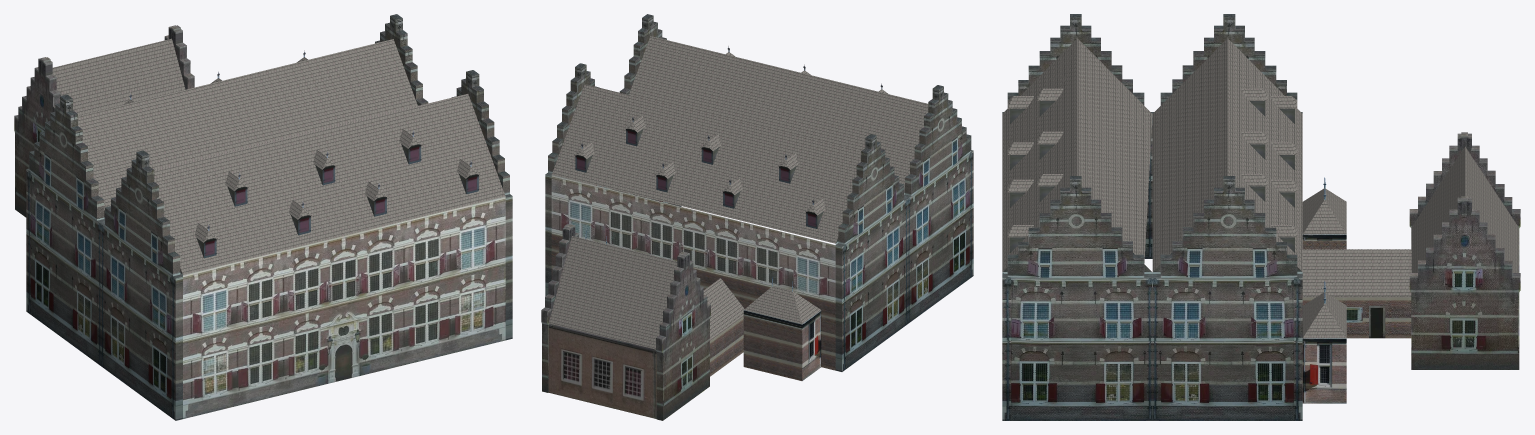
Rendered from euroB_04.glb.
3 renders of one model, left to right at view 1: azimuth 30°, elevation 25°; view 2: azimuth 150°, elevation 25°; view 3: azimuth 270°, elevation 25°, orthographic. The views are drawn at different scales.
Visible parts, largest first — view 1: geometry_11, geometry_0, geometry_1, geometry_76, geometry_9, geometry_12; view 2: geometry_11, geometry_1, geometry_0, geometry_76, geometry_213, geometry_78, geometry_89, geometry_9; view 3: geometry_1, geometry_11, geometry_76, geometry_89, geometry_78, geometry_12, geometry_81.
Part boxes in pixels (<box>): geometry_11: <box>52,38,505,274</box>; geometry_0: <box>98,194,505,418</box>; geometry_1: <box>26,14,512,420</box>; geometry_76: <box>14,25,194,217</box>; geometry_9: <box>129,50,478,258</box>; geometry_12: <box>196,144,466,257</box>; geometry_11: <box>549,36,928,349</box>; geometry_1: <box>545,14,973,371</box>; geometry_0: <box>551,173,909,303</box>; geometry_76: <box>541,224,710,420</box>; geometry_213: <box>548,323,656,418</box>; geometry_78: <box>551,234,835,380</box>; geometry_89: <box>585,231,821,380</box>; geometry_9: <box>575,46,882,228</box>; geometry_1: <box>1002,14,1302,420</box>; geometry_11: <box>1002,38,1518,338</box>; geometry_76: <box>1346,132,1520,369</box>; geometry_89: <box>1302,177,1346,403</box>; geometry_78: <box>1302,240,1411,338</box>; geometry_12: <box>1010,101,1294,252</box>; geometry_81: <box>1369,305,1385,338</box>.
Bounding box in the file's own units: 21.28 × 14.48 × 28.17.
Materials: 10 (10 with a texture image).
